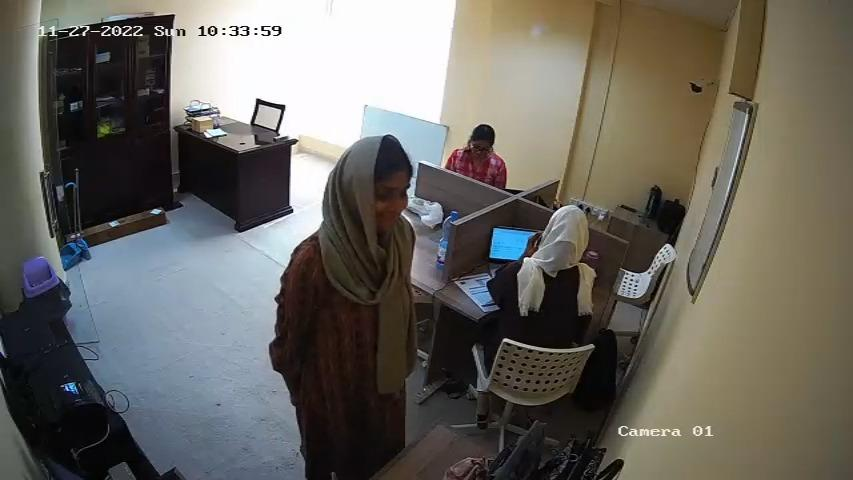no_apron: (297, 251, 408, 444)
